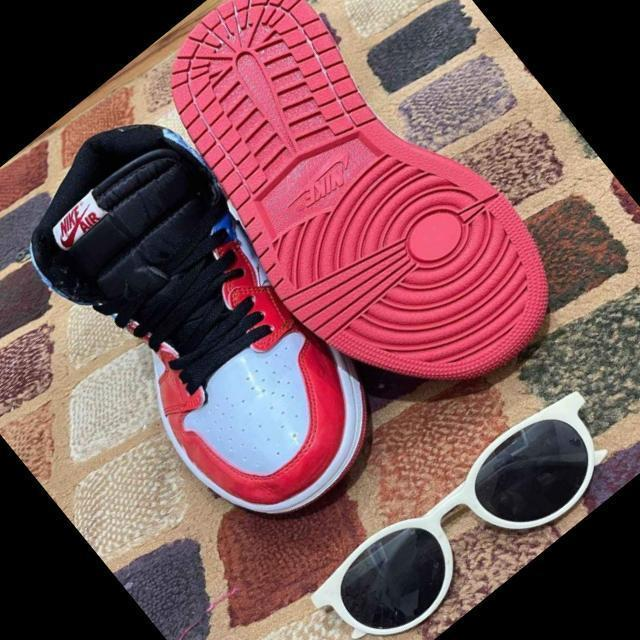nike fake jordan 1: (0, 90, 414, 547)
